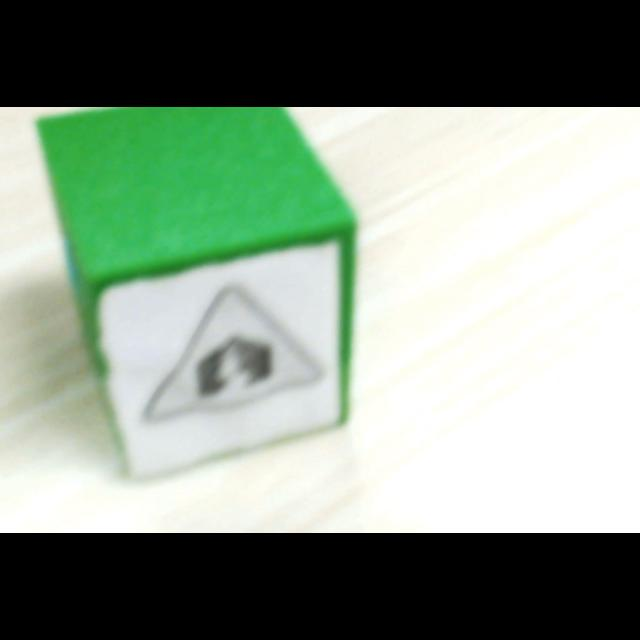Earthquake: (143, 284, 323, 422)
